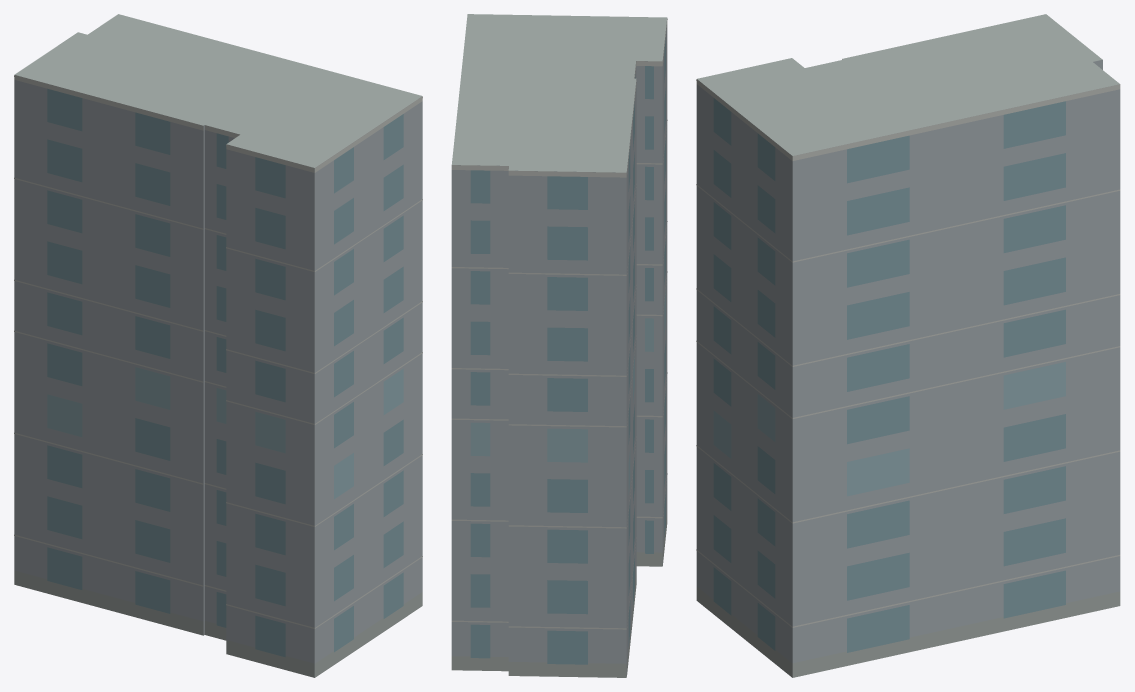
Rendered from survey-upis-32661344.glb.
3 renders of one model, left to right at view 1: azimuth 30°, elevation 25°; view 2: azimuth 150°, elevation 25°; view 3: azimuth 270°, elevation 25°, orthographic. The views are drawn at different scales.
Parts seen in each view (by area): view 1: survey-upis-32661344.tmp; view 2: survey-upis-32661344.tmp; view 3: survey-upis-32661344.tmp.
Part boxes in pixels (box(x1,y1,x2,y2)): survey-upis-32661344.tmp: box(14, 14, 422, 677); survey-upis-32661344.tmp: box(451, 14, 667, 677); survey-upis-32661344.tmp: box(696, 14, 1120, 677).
Bounding box in the file's own units: 14.56 × 24.9 × 18.34.
